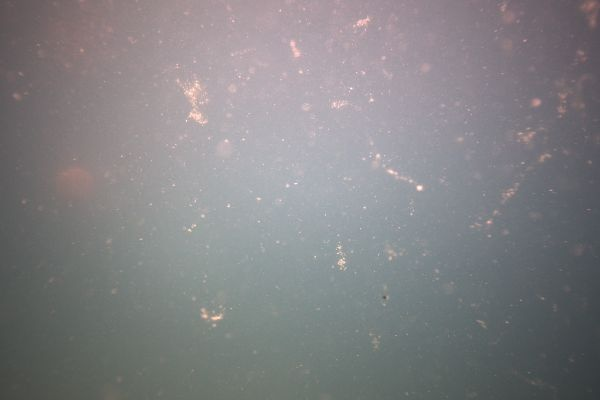buoy: (60, 170, 88, 204)
